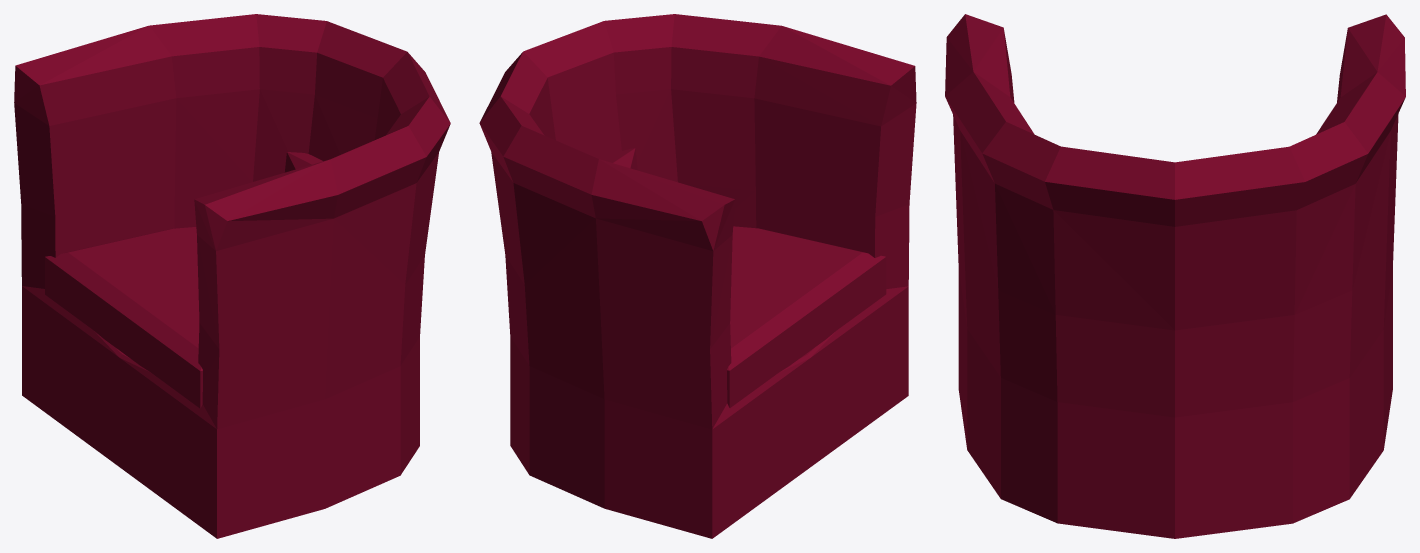
Rendered from IKEA_armchair_EKTORP.dae.
3 views of the same model, side by side, from view 1: azimuth 30°, elevation 25°; view 2: azimuth 150°, elevation 25°; view 3: azimuth 270°, elevation 25° (orthographic). The views are drawn at different scales.
Parts seen in each view (by area): view 1: IKEA_armchair_EKTORP; view 2: IKEA_armchair_EKTORP; view 3: IKEA_armchair_EKTORP.
Part boxes in pixels (x1,y1,x2,y2): IKEA_armchair_EKTORP: (14, 14, 450, 538); IKEA_armchair_EKTORP: (479, 14, 916, 538); IKEA_armchair_EKTORP: (945, 14, 1405, 538).
Bounding box in the file's own units: 0.7007 × 0.8 × 0.77.
